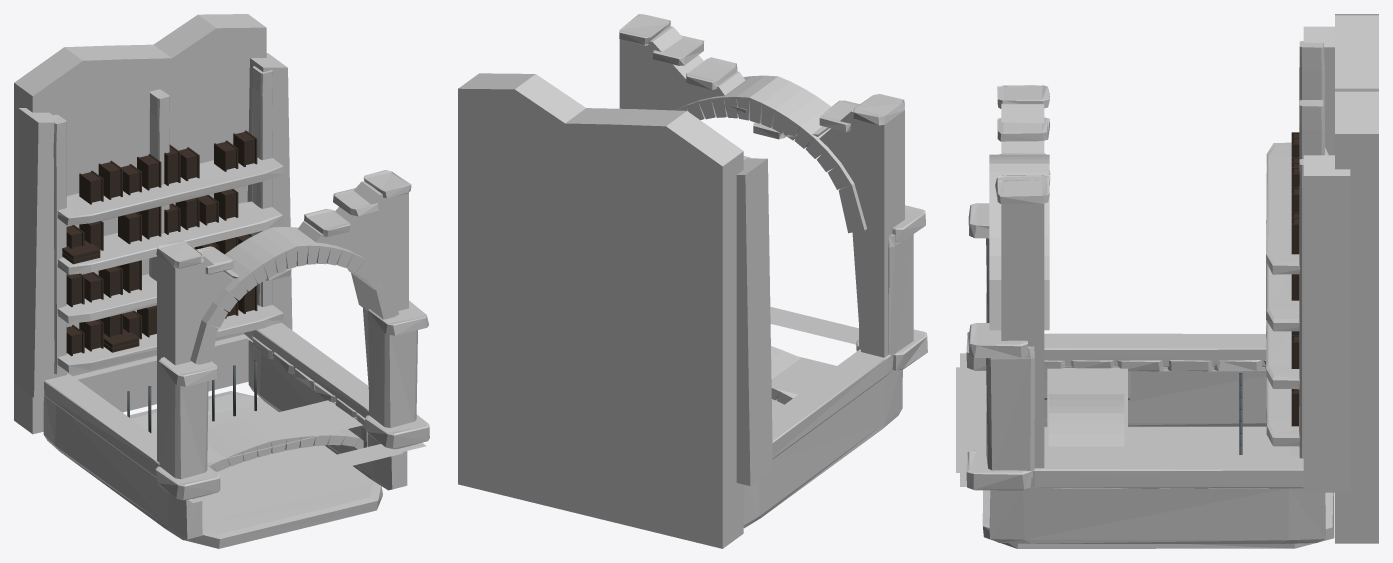
The model's file is archive_bay_broken.glb.
3 renders of one model, left to right at view 1: azimuth 30°, elevation 25°; view 2: azimuth 150°, elevation 25°; view 3: azimuth 270°, elevation 25°, orthographic. The views are drawn at different scales.
Parts seen in each view (by area): view 1: archive_bay_broken__masonry, archive_bay_broken__dressed_stone, archive_bay_broken__oak, archive_bay_broken__paving, archive_bay_broken__iron; view 2: archive_bay_broken__masonry, archive_bay_broken__dressed_stone, archive_bay_broken__paving; view 3: archive_bay_broken__masonry, archive_bay_broken__dressed_stone, archive_bay_broken__paving, archive_bay_broken__oak.
Boxes of the visible parts, x1,y1,x2,y2 form: archive_bay_broken__masonry: (14,14,417,548); archive_bay_broken__dressed_stone: (49,66,429,500); archive_bay_broken__oak: (62,130,257,356); archive_bay_broken__paving: (73,334,426,502); archive_bay_broken__iron: (127,360,256,432); archive_bay_broken__masonry: (458,26,913,548); archive_bay_broken__dressed_stone: (619,14,927,404); archive_bay_broken__paving: (770,306,858,394); archive_bay_broken__masonry: (982,14,1378,548); archive_bay_broken__dressed_stone: (966,41,1328,490); archive_bay_broken__paving: (956,353,1265,486); archive_bay_broken__oak: (1291,132,1299,426).
Bounding box in the file's own units: 4.64 × 6.45 × 5.61.
